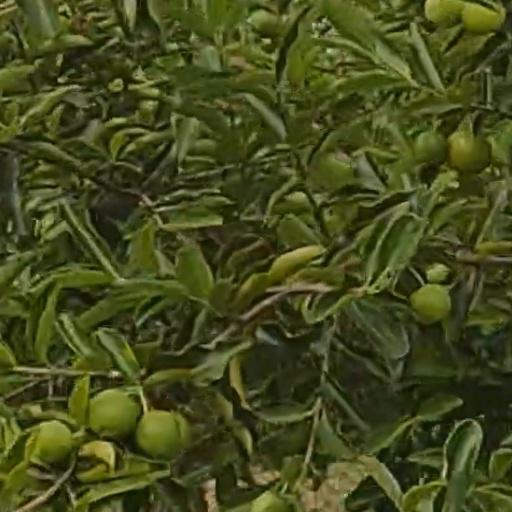acerola_verde: (90, 387, 136, 436), (139, 414, 188, 459), (453, 133, 491, 173), (414, 284, 450, 326), (465, 4, 506, 33), (428, 1, 460, 25), (418, 136, 443, 165)
